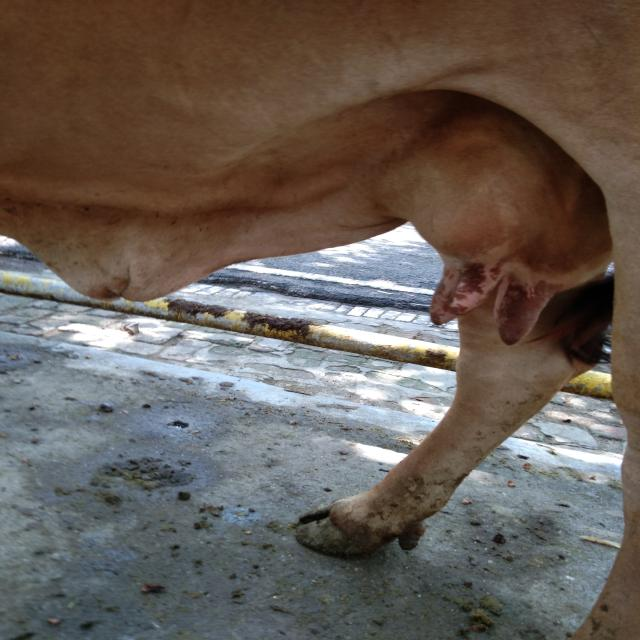Hoof: (294, 495, 425, 558)
